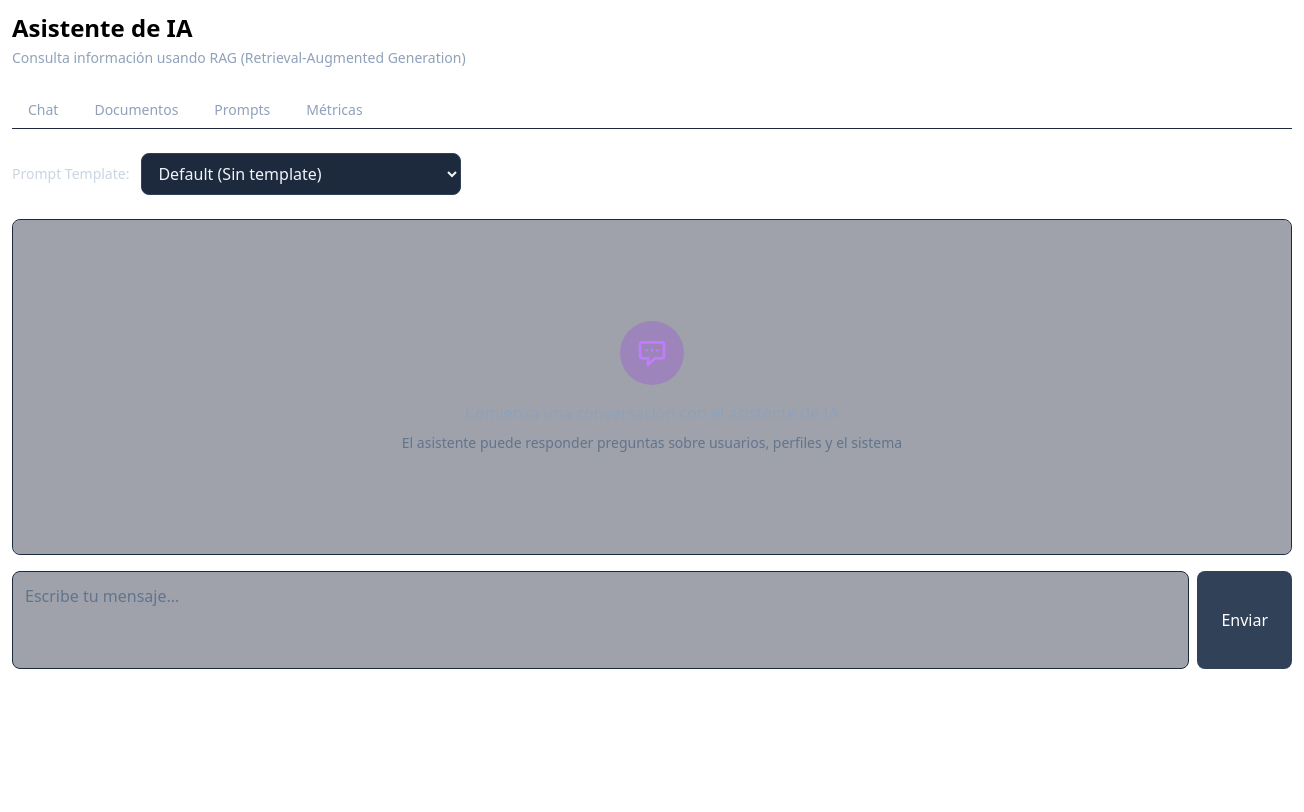
Scenario: AIPage › debe mostrar el mensaje del usuario después de enviarlo
Type "Test message" into the text box with placeholder "Escribe tu mensaje..." at (601, 620), box [12,571,1189,669]
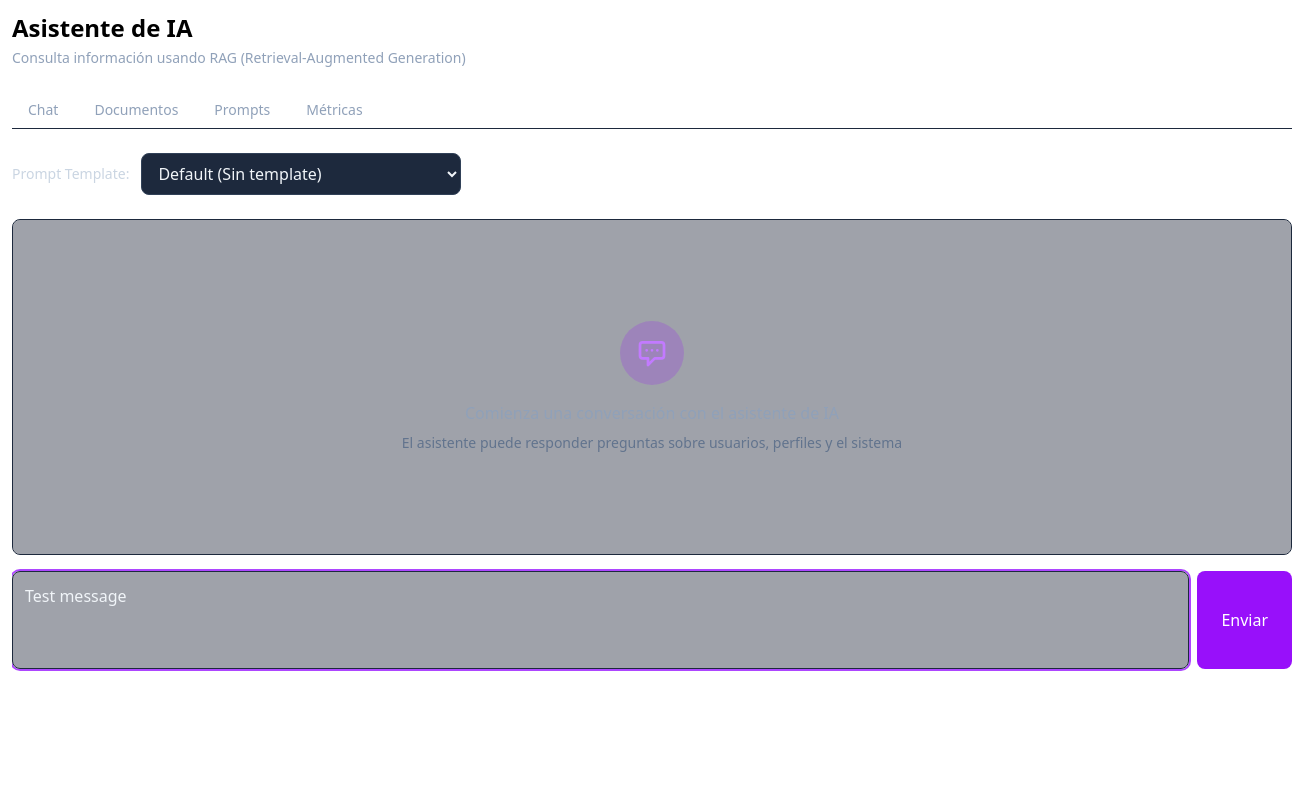
Click the button "Enviar" at (1245, 620), box [1197,571,1292,669]
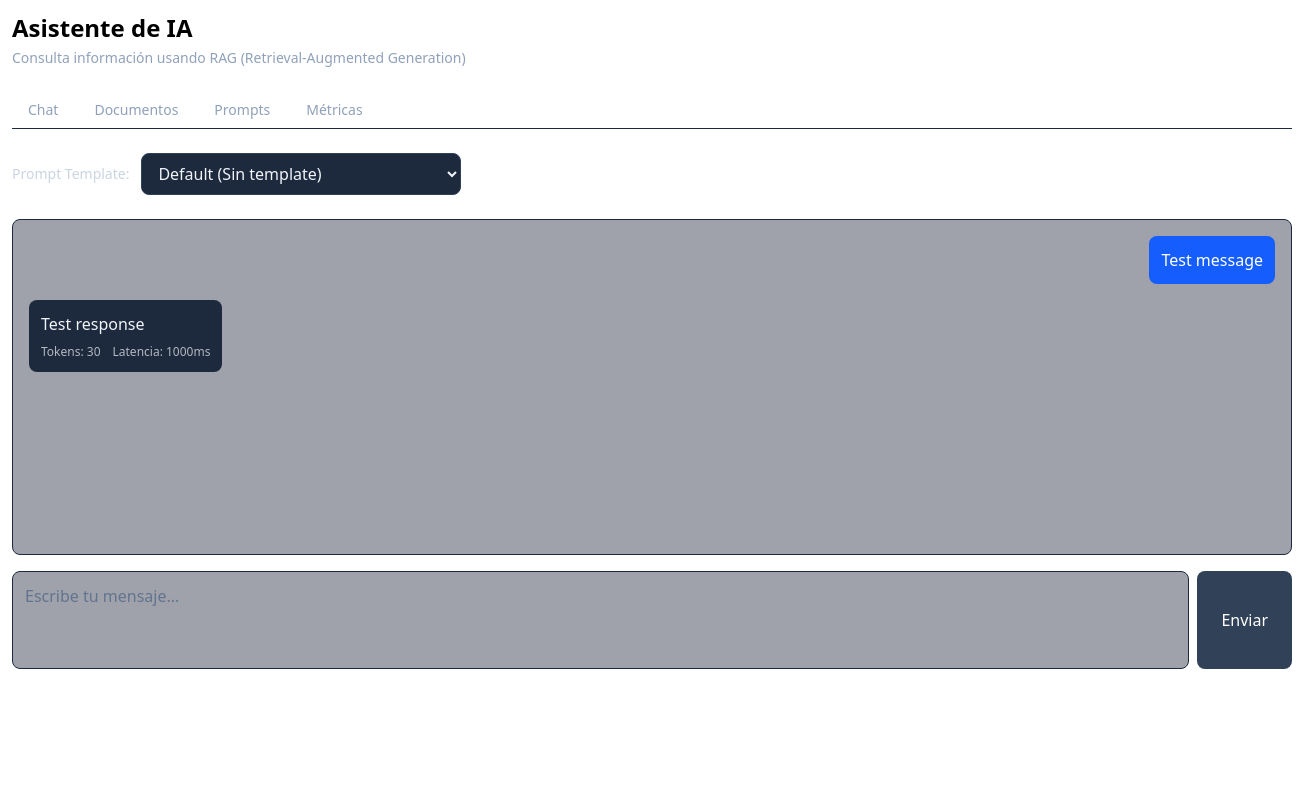
Expected: the text "Test message" is shown, [1161,248,1263,272]
